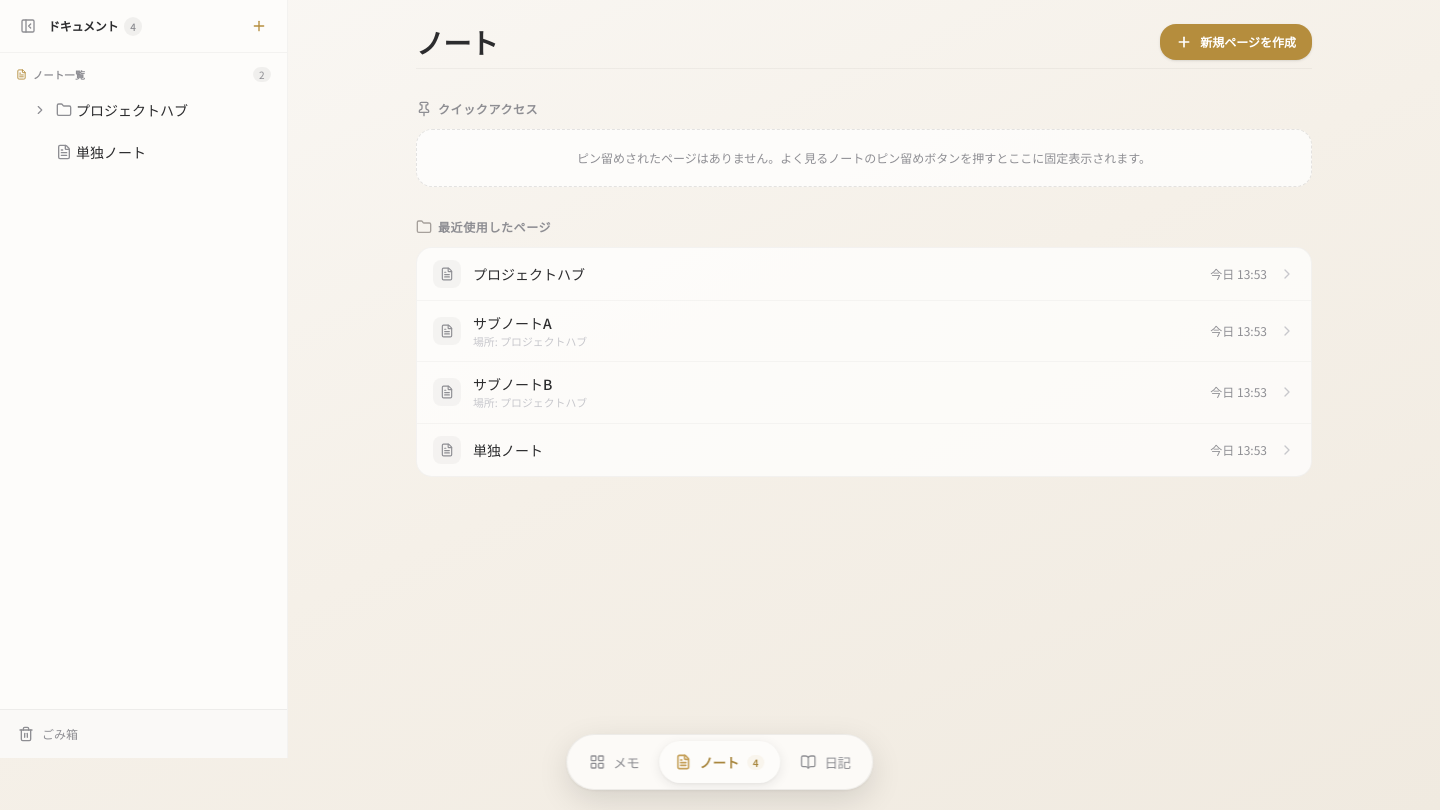
Test: Notes 階層化・ハブ＆カード（Parent-Child Hub）統合テスト › トップ一覧でルートノートのみが表示され、子ノート件数バッジ（📁 N件）が表示される
Expected: the text "プロジェクトハブ" below "ノート一覧" is shown, [76,100,188,120]
Expected: the text "単独ノート" below "ノート一覧" is shown, [76,142,146,162]
# 展開ボタンをクリックすると子ノートが表示される
What coordinates should you click on to do the following:
click the button named "展開する"
I would click on:
 (40, 110)
Its box is [28,98,52,122].
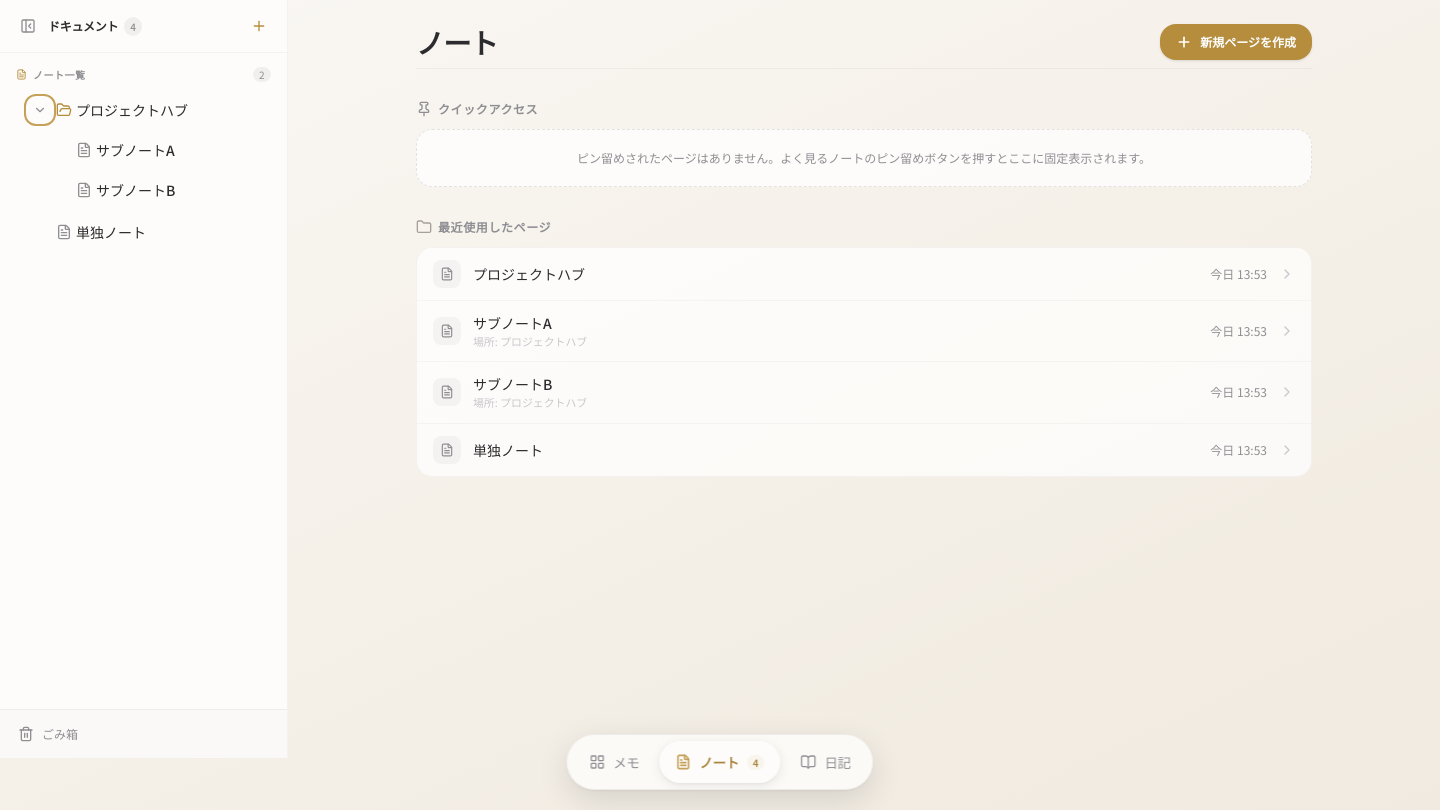
Now the text "サブノートA" below "ノート一覧" is shown, box [96,140,175,160]
Now the text "サブノートB" below "ノート一覧" is shown, box [96,180,175,200]
